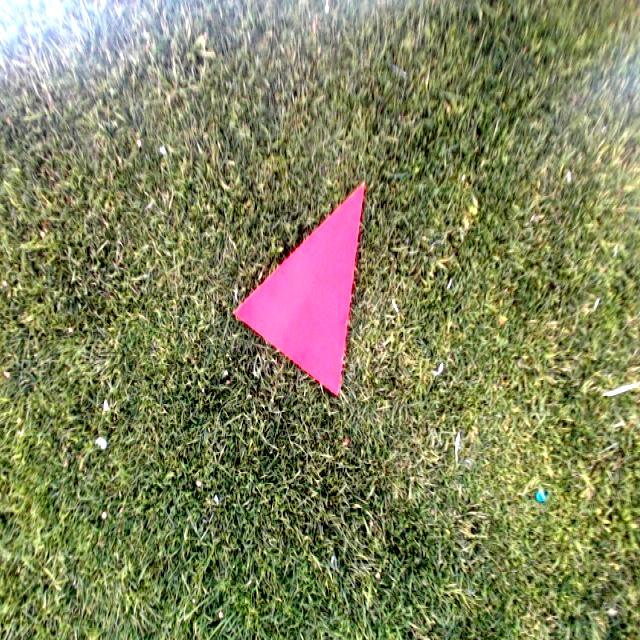red_triangle: (232, 182, 367, 397)
